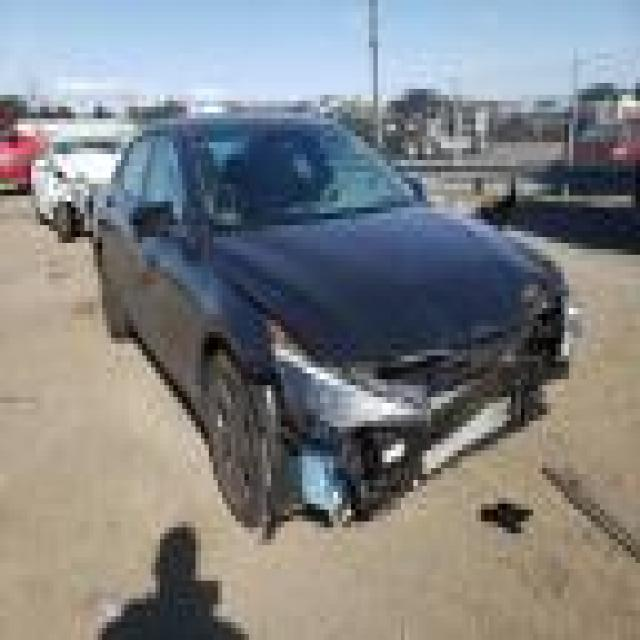moderate: (211, 303, 640, 564)
